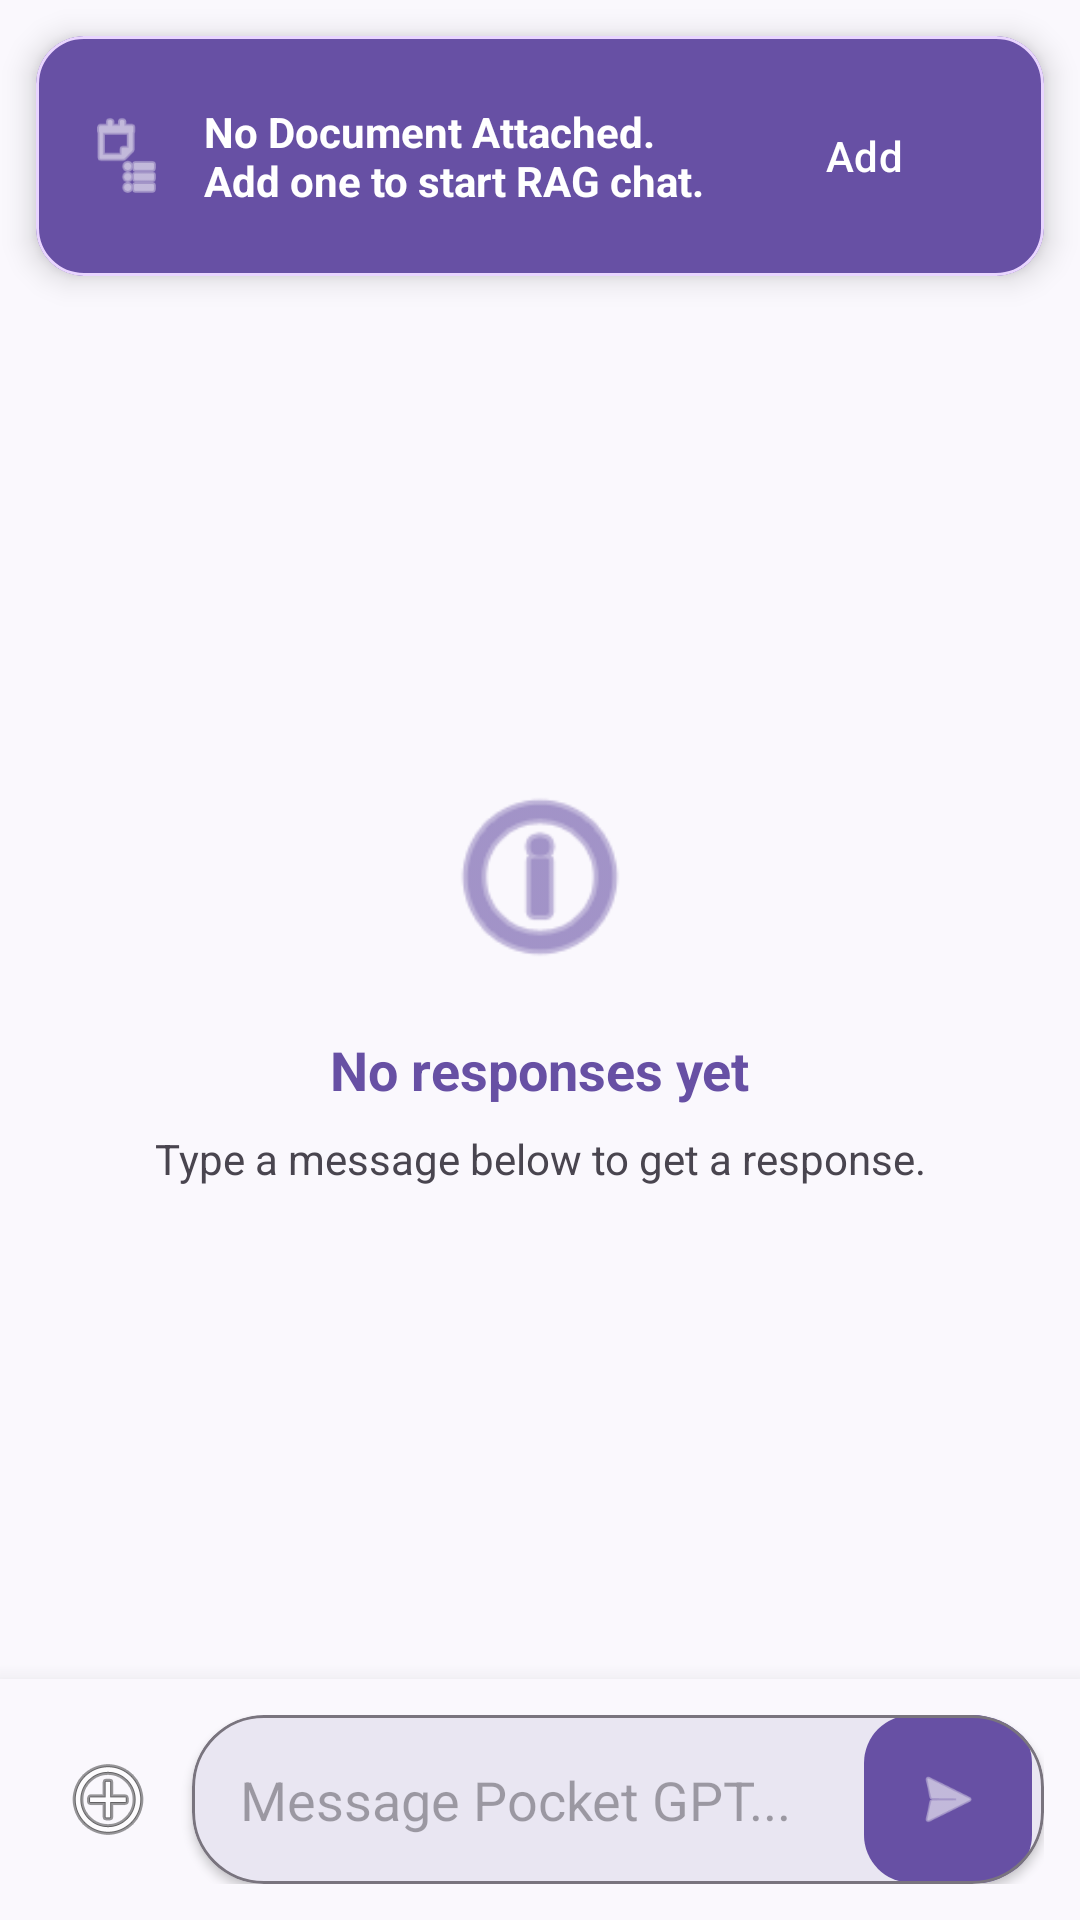

Icon bounding boxes for this 1080×1920 phone screenshot, format bbox=[x1, y1, x2, y2]:
add: bbox=[72, 1764, 144, 1835]
agenda: bbox=[97, 118, 156, 193]
info details: bbox=[462, 800, 618, 954]
send: bbox=[864, 1715, 1032, 1883]
